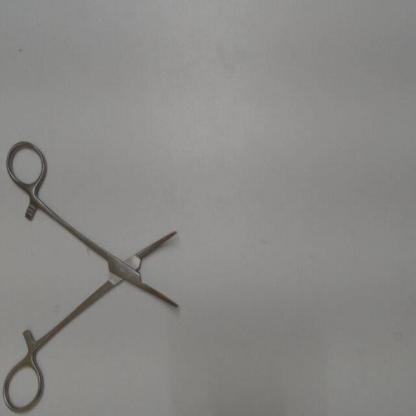Crile Artery Forceps: (1, 134, 191, 414)
